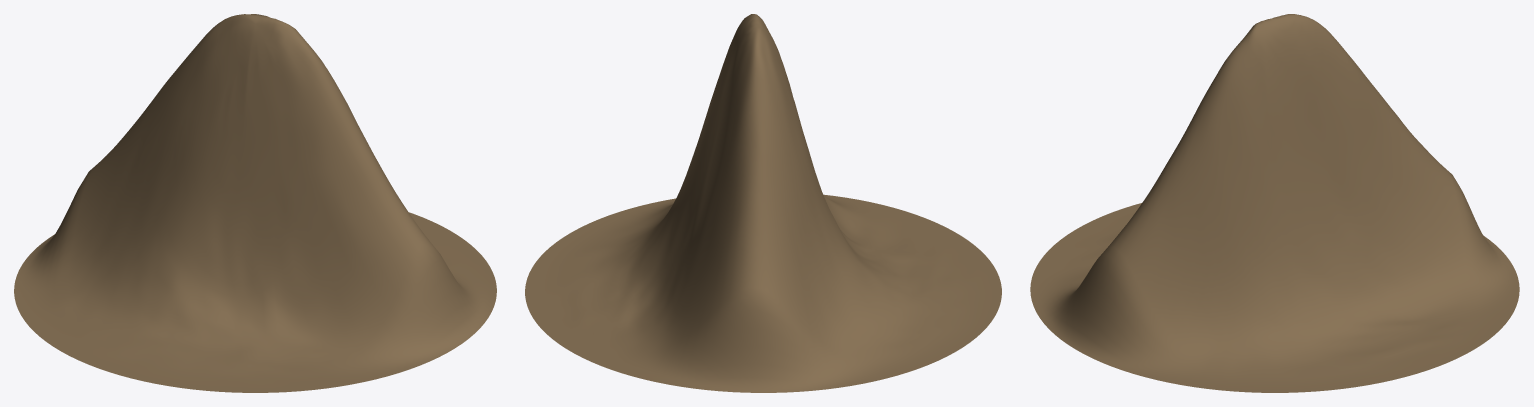
File: hill-v2.3.glb
The picture shows the model from 3 angles, left to right: view 1: azimuth 30°, elevation 25°; view 2: azimuth 150°, elevation 25°; view 3: azimuth 270°, elevation 25°; orthographic projection. The views are drawn at different scales.
Parts seen in each view (by area): view 1: hill_v2_3; view 2: hill_v2_3; view 3: hill_v2_3.
Boxes of the visible parts, x1,y1,x2,y2 form: hill_v2_3: (14,14,496,392); hill_v2_3: (525,14,1001,392); hill_v2_3: (1030,14,1519,392).
Size of the model in its own units: 2 by 1.24 by 2.
